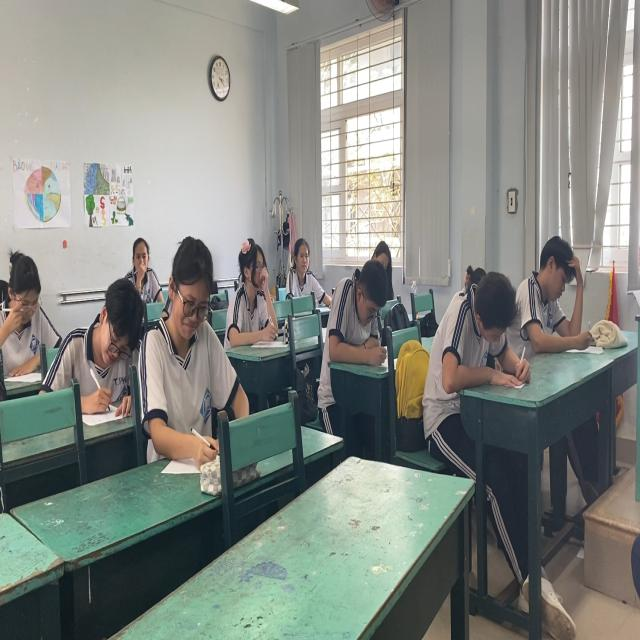not_cheating: (148, 234, 231, 436), (46, 267, 150, 412), (430, 263, 528, 386), (526, 231, 598, 370), (0, 240, 59, 372), (327, 260, 389, 359), (227, 234, 272, 340), (124, 233, 164, 303), (287, 227, 324, 293), (370, 237, 407, 283)
